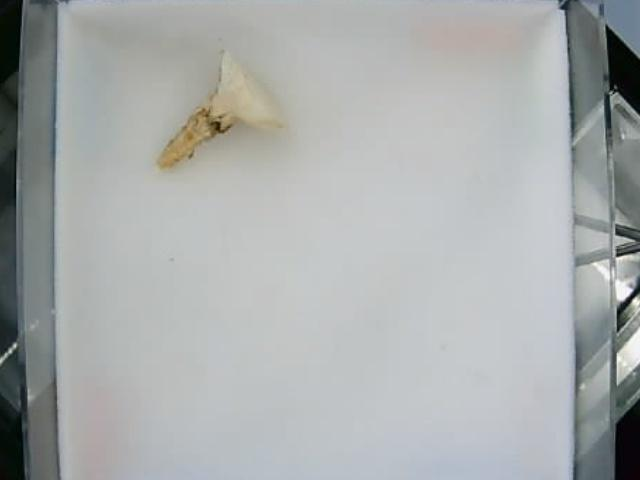Mooli: (155, 46, 289, 175)
